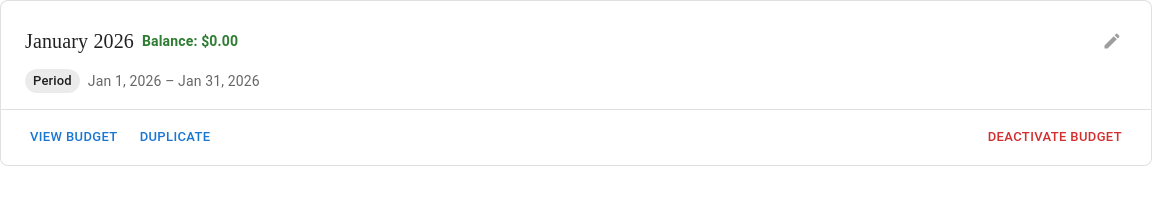
Test case: BudgetCard rename › cancels editing on Escape key
This screenshot has width=1152, height=197.
Step 1. Click the button named "rename" → (1112, 41), box left=1097, top=26, right=1127, bottom=56
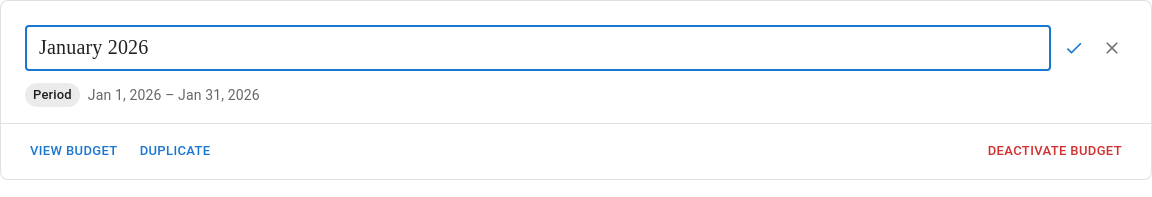
Step 2. Press Escape in the field showing "January 2026", box left=25, top=25, right=1051, bottom=71
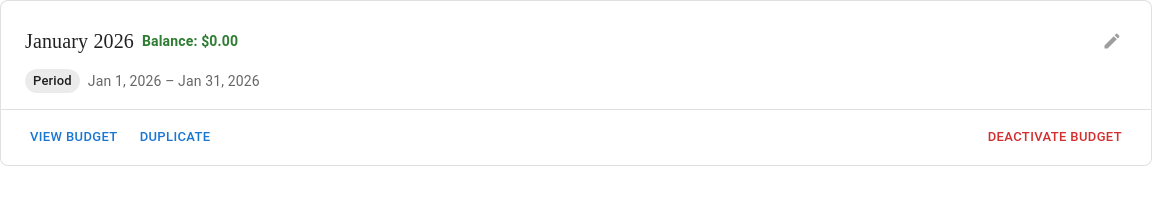
Expected: the heading "January 2026" is shown, left=25, top=25, right=134, bottom=57
